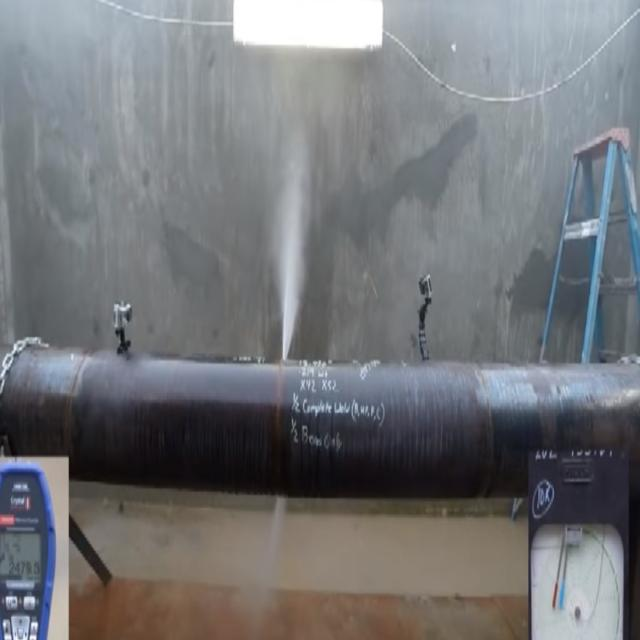leak: (279, 143, 316, 364)
